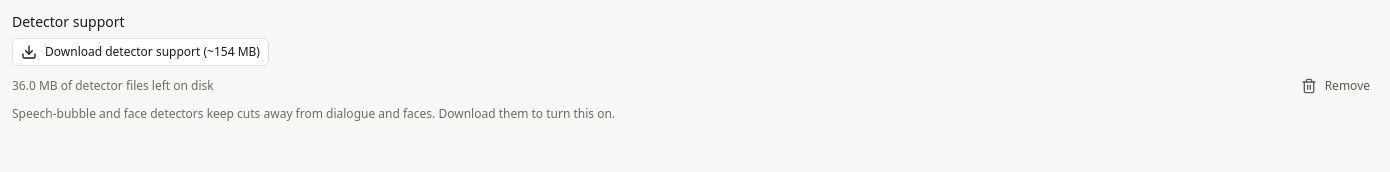
Test: detector card after a remove that left files behind › shows the size left and removes it through the Storage delete path
The image size is (1390, 172).
expect the text "36.0 MB of detector files left on disk" is shown: met, box left=12, top=78, right=214, bottom=94
expect the button "Download detector support (~154 MB)" is shown: met, box left=12, top=38, right=269, bottom=66
Click the button "Remove".
click(1335, 86)  # box left=1293, top=72, right=1378, bottom=100
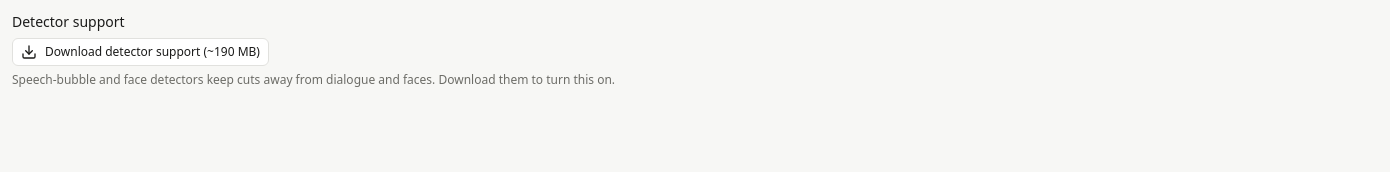
expect the text "left on disk" is gone: met
expect the button "Remove" is gone: met
